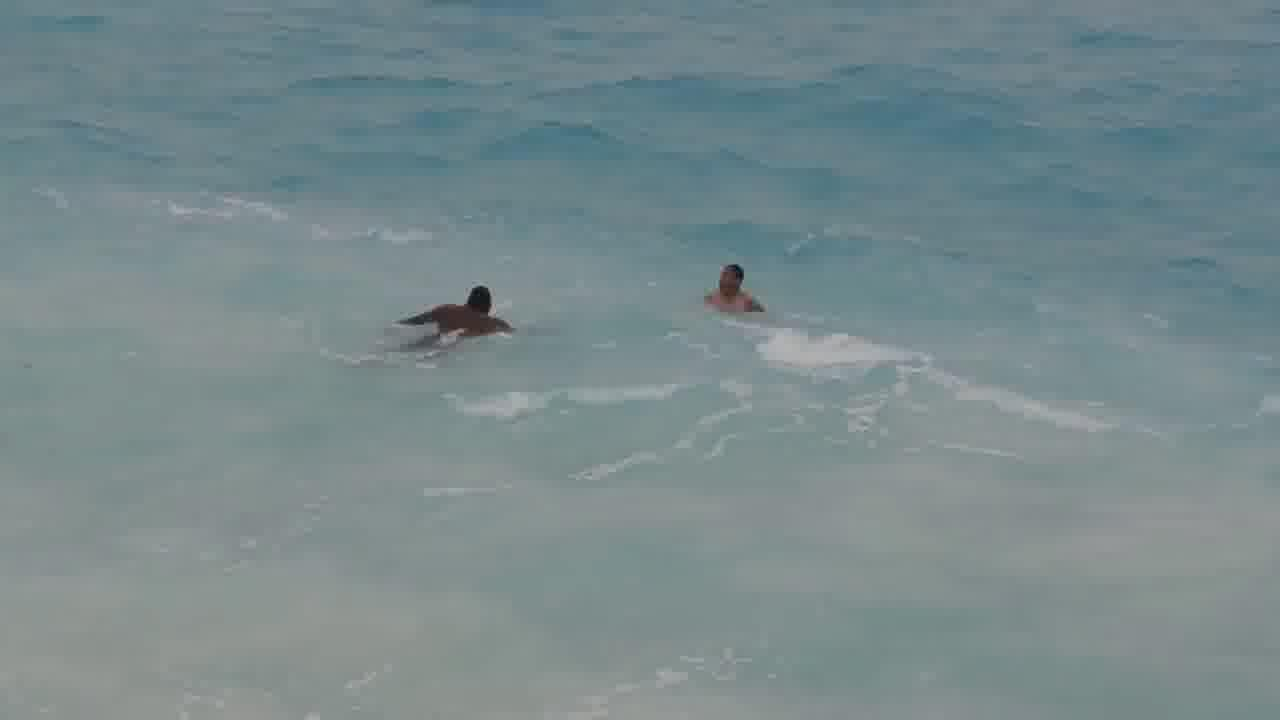human: (382, 282, 520, 351), (683, 252, 775, 317)
